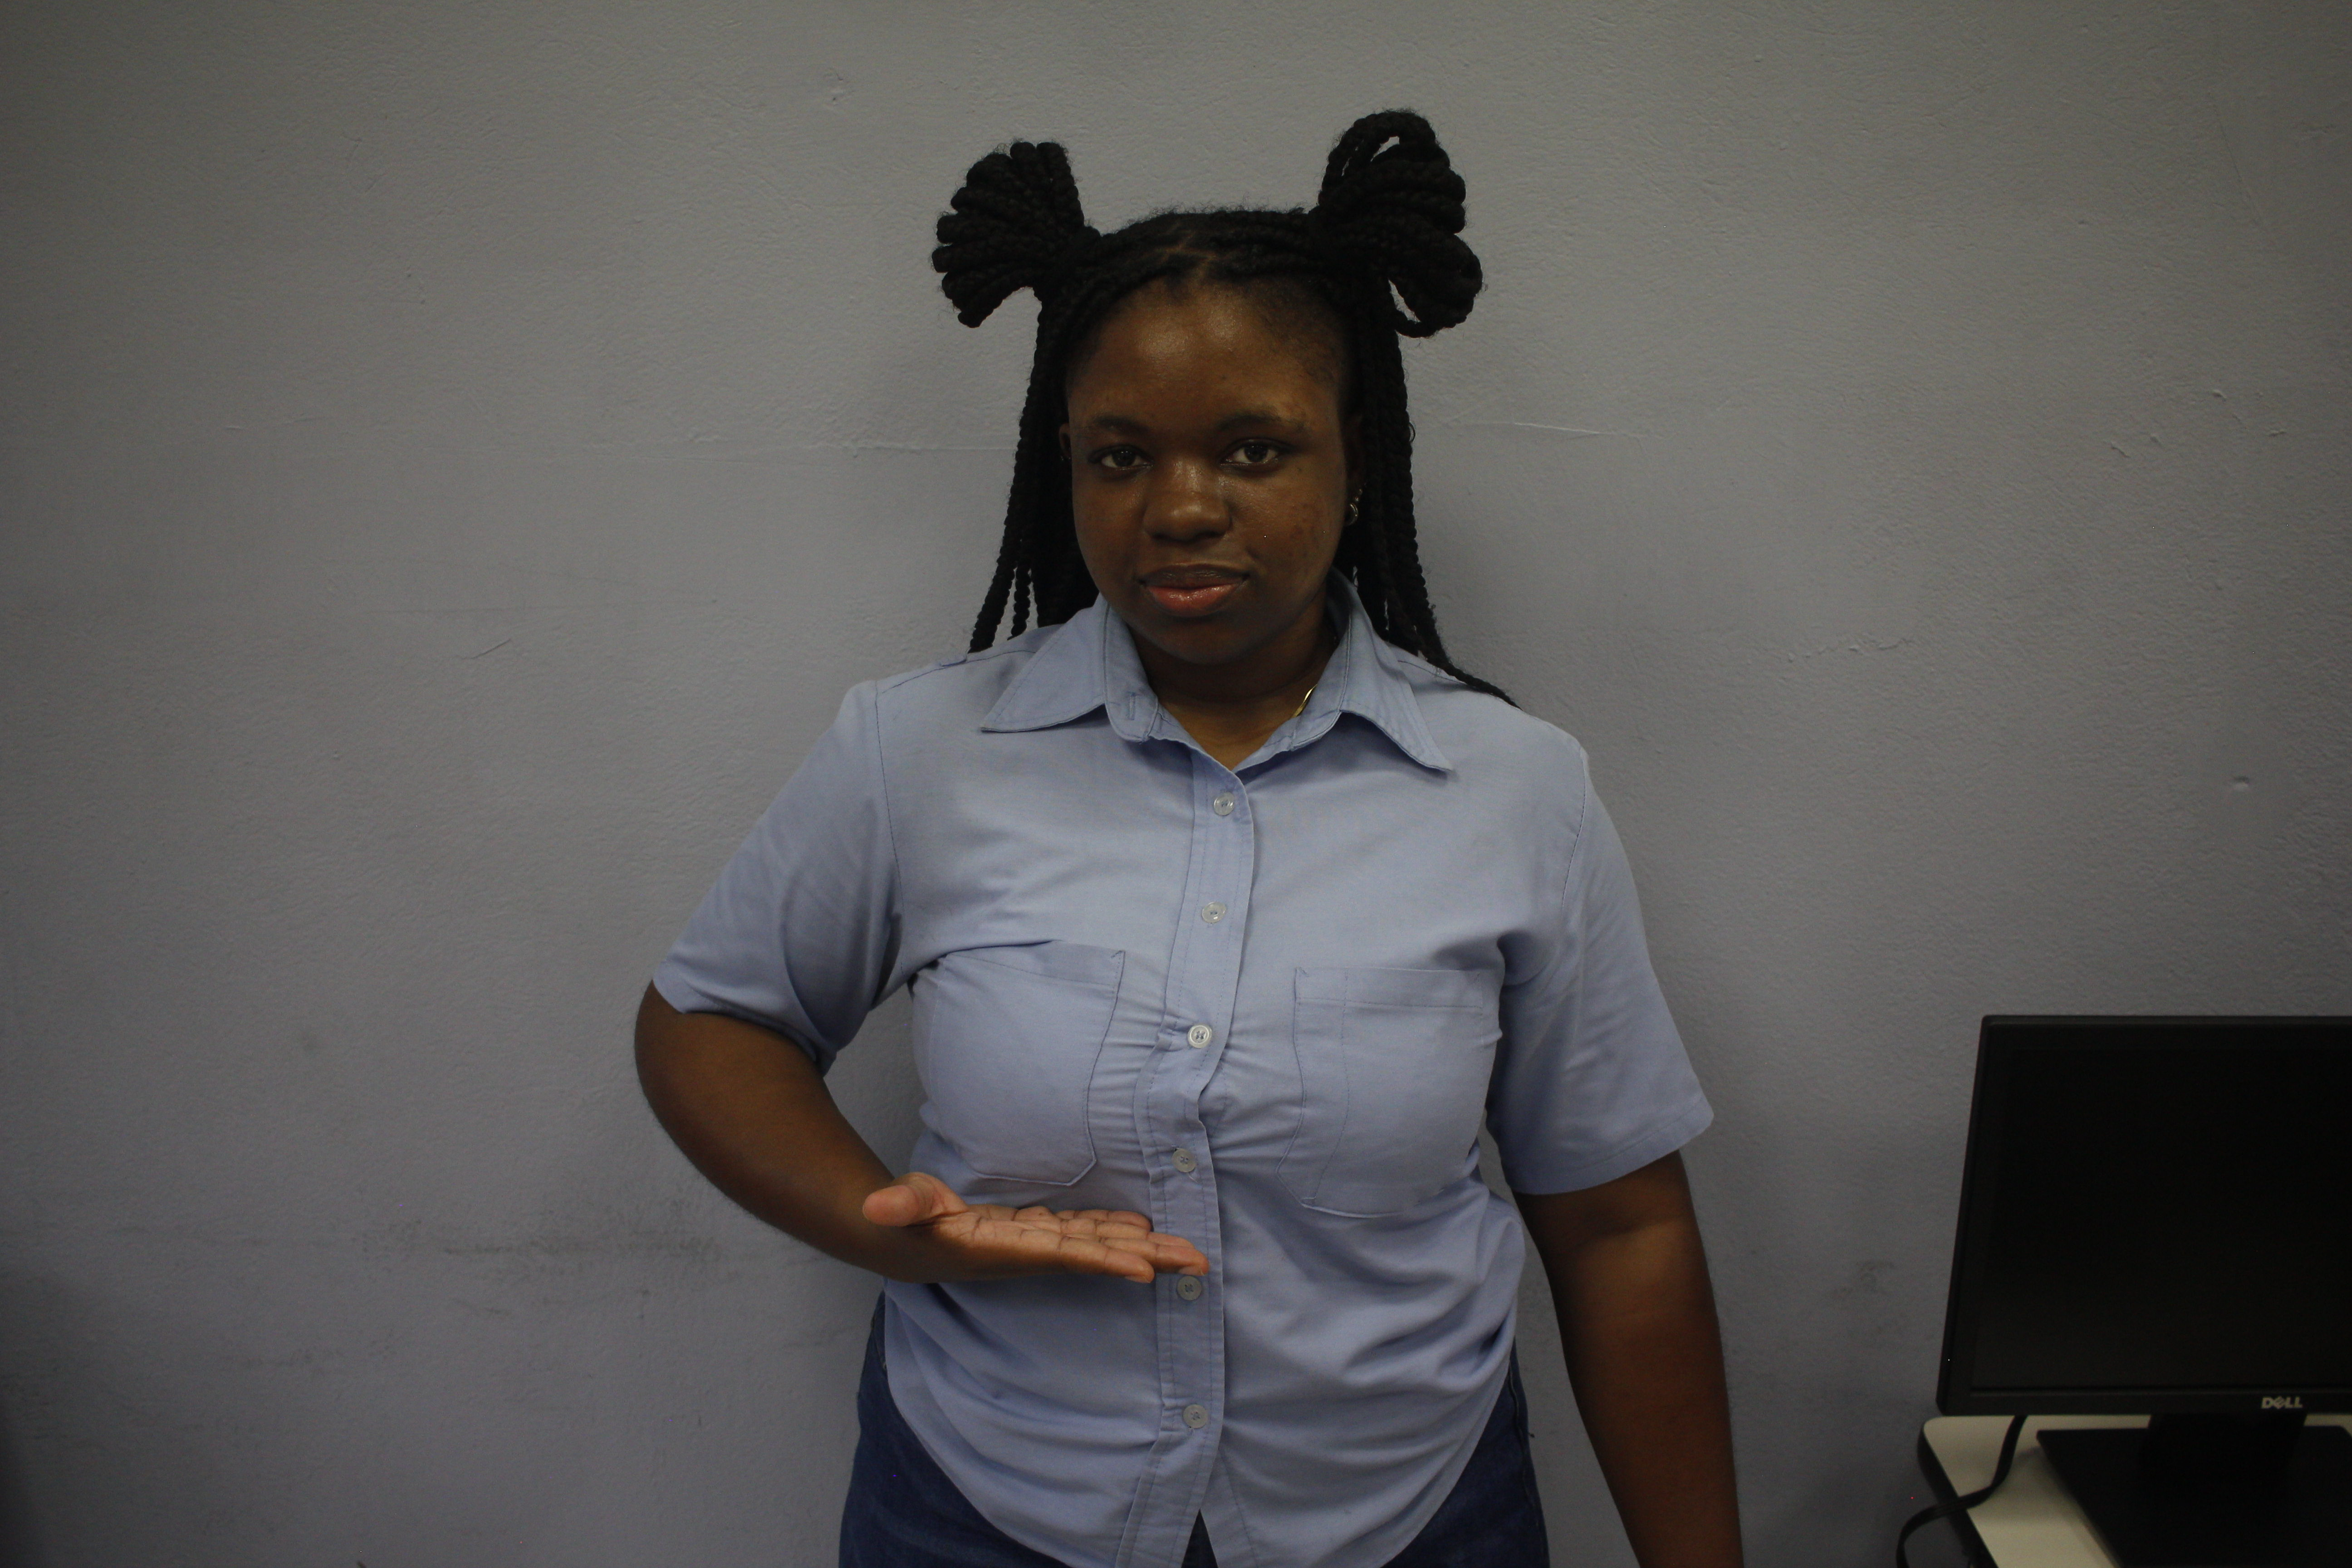you are welcome: (852, 1157, 1215, 1309)
